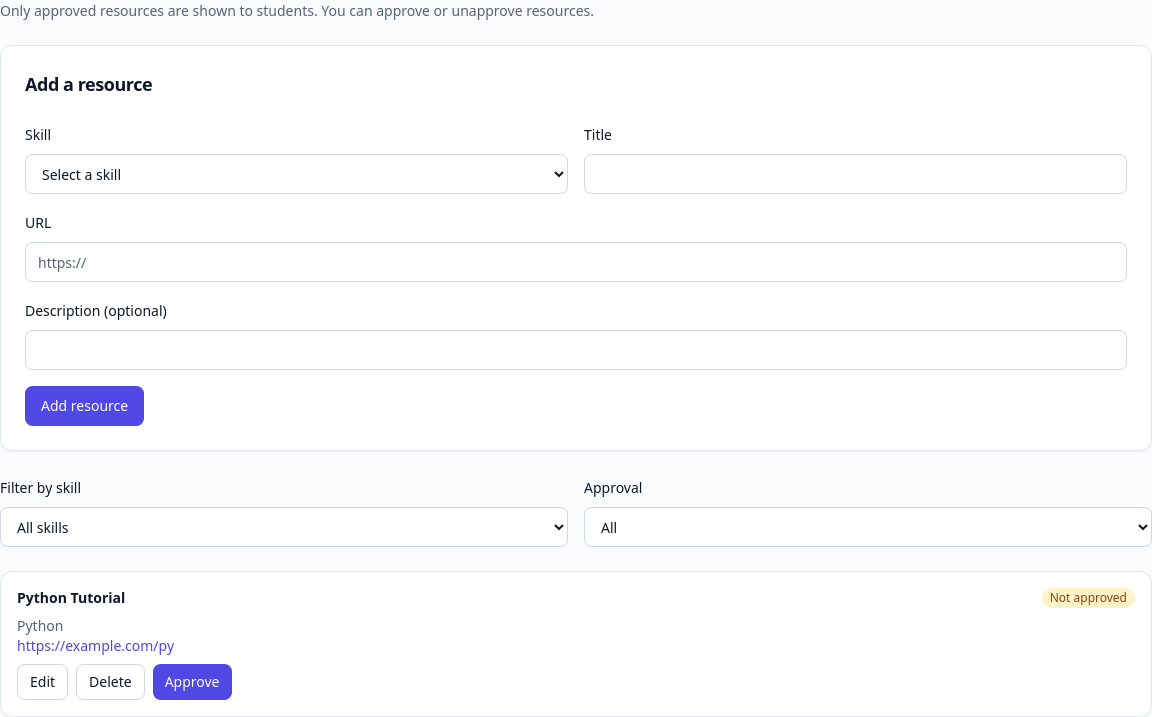
Scenario: AdminLearningResourcesPage › requires an in-page confirmation before an admin approves
(page scrolled)
Step 1. Click the button with aria-label "Approve Python Tutorial" → (192, 682), box [153,664,232,700]
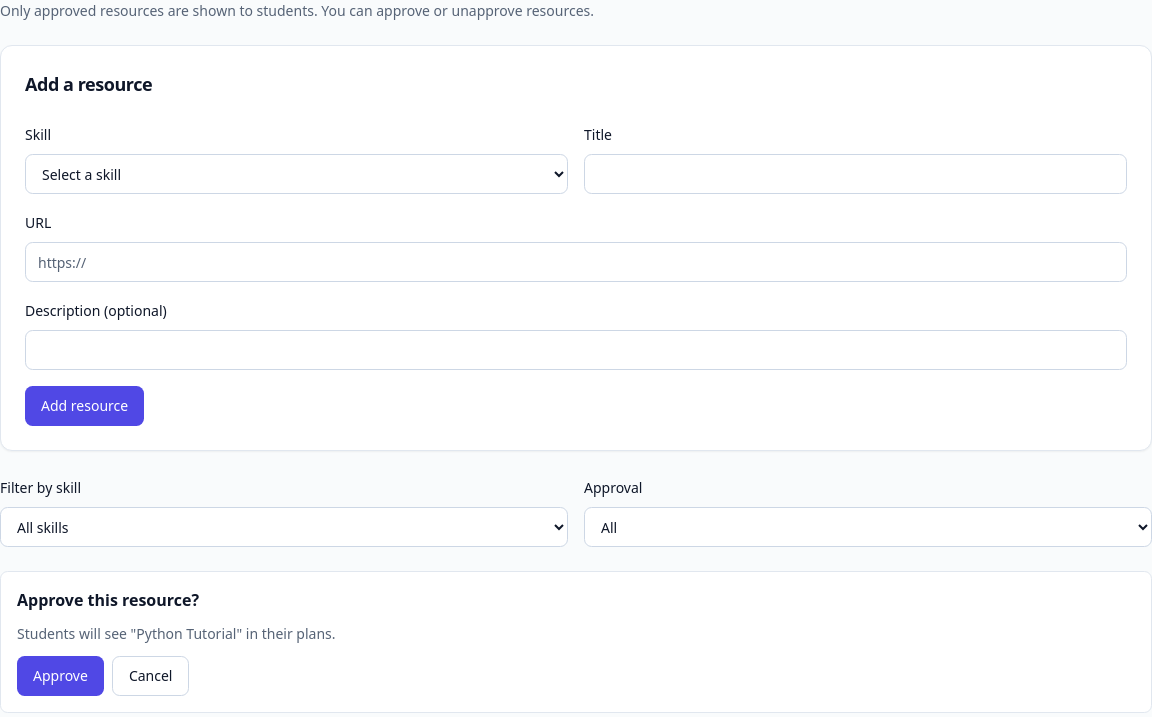
expect the dialog "Approve this resource?" is shown: met, box [0,571,1151,713]
Step 2. Click the button "Approve" → (60, 676), box [17,656,104,696]
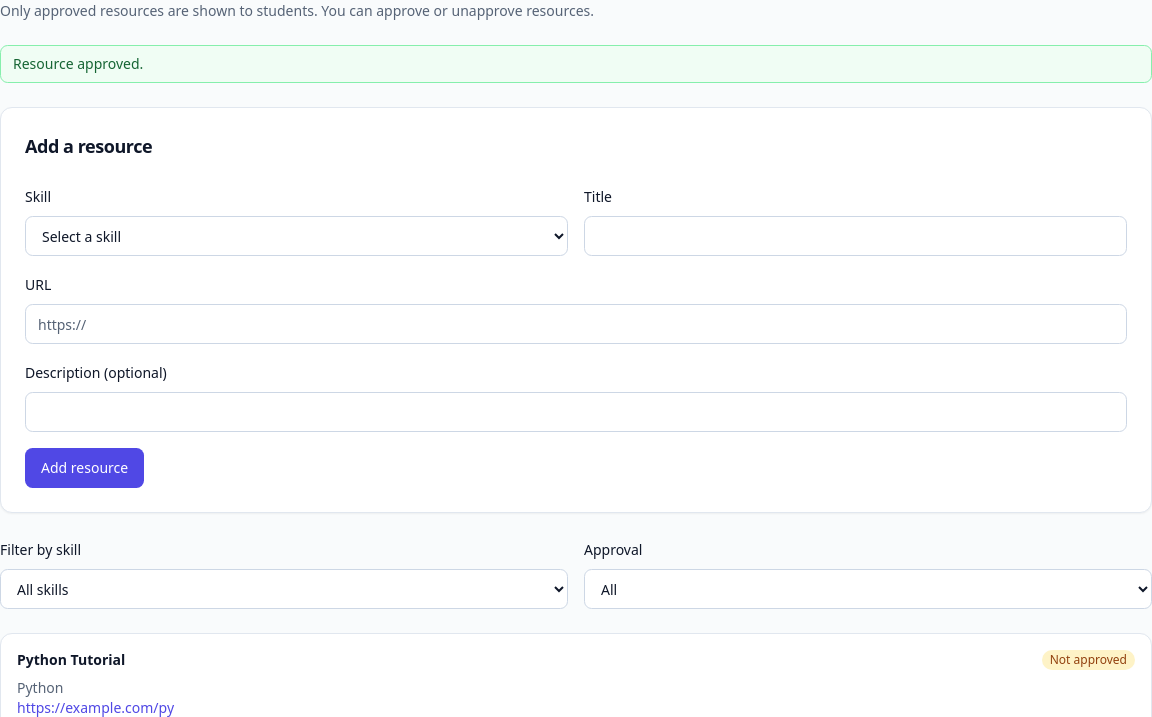
expect the text "Resource approved." is shown: met, box [0,45,1151,83]
